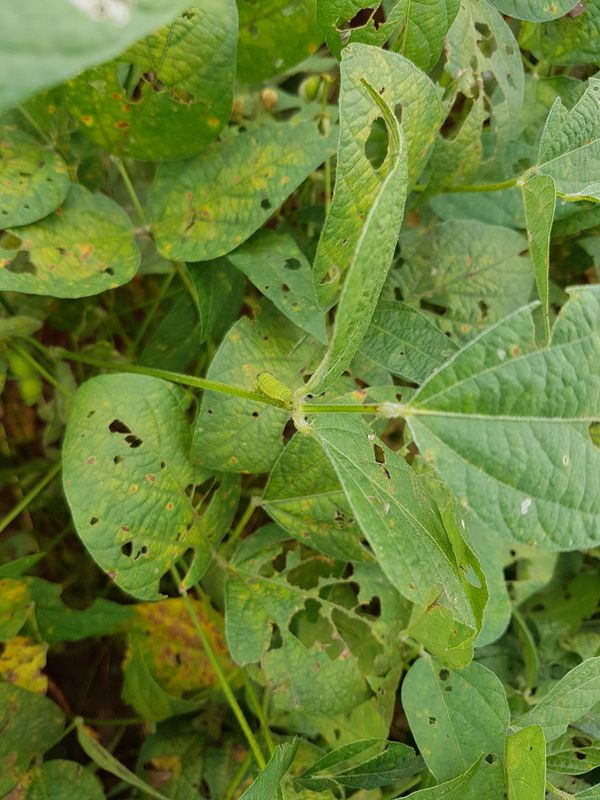Anticarsia_gemmatalis: (240, 361, 302, 416)
